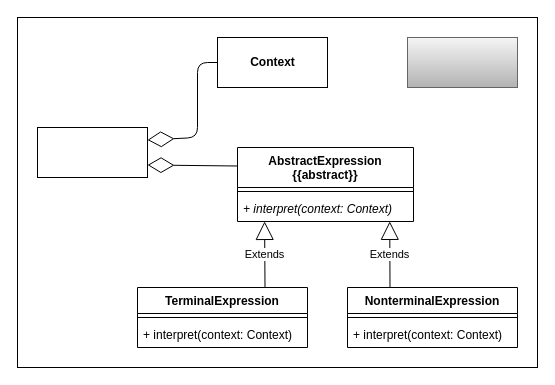
The diagram is 555 pixels wide and 385 high, and some of its shapes have lost their labels. The centre of each missing label's shape, as x and y in pixels:
Client: (x=92, y=152)
Interpreter: (x=462, y=62)
